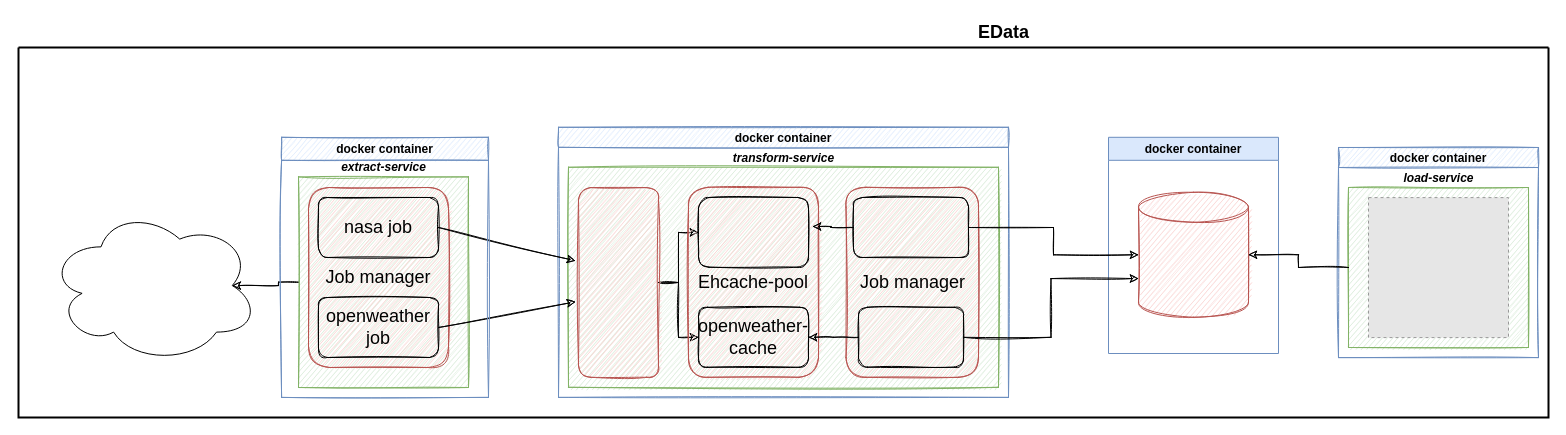
This 1566x435 diagram has some shape labels left out. Grey dashed boxes stand in for pictures. The centre of each missing label's shape, as x and y in pixels:
Http server: point 618,282
job 1: point 910,227
job 2: point 911,336
NASA , OPEN WEATHER: point 153,285
nasa-cache: point 753,231
REDIS: point 1193,254
